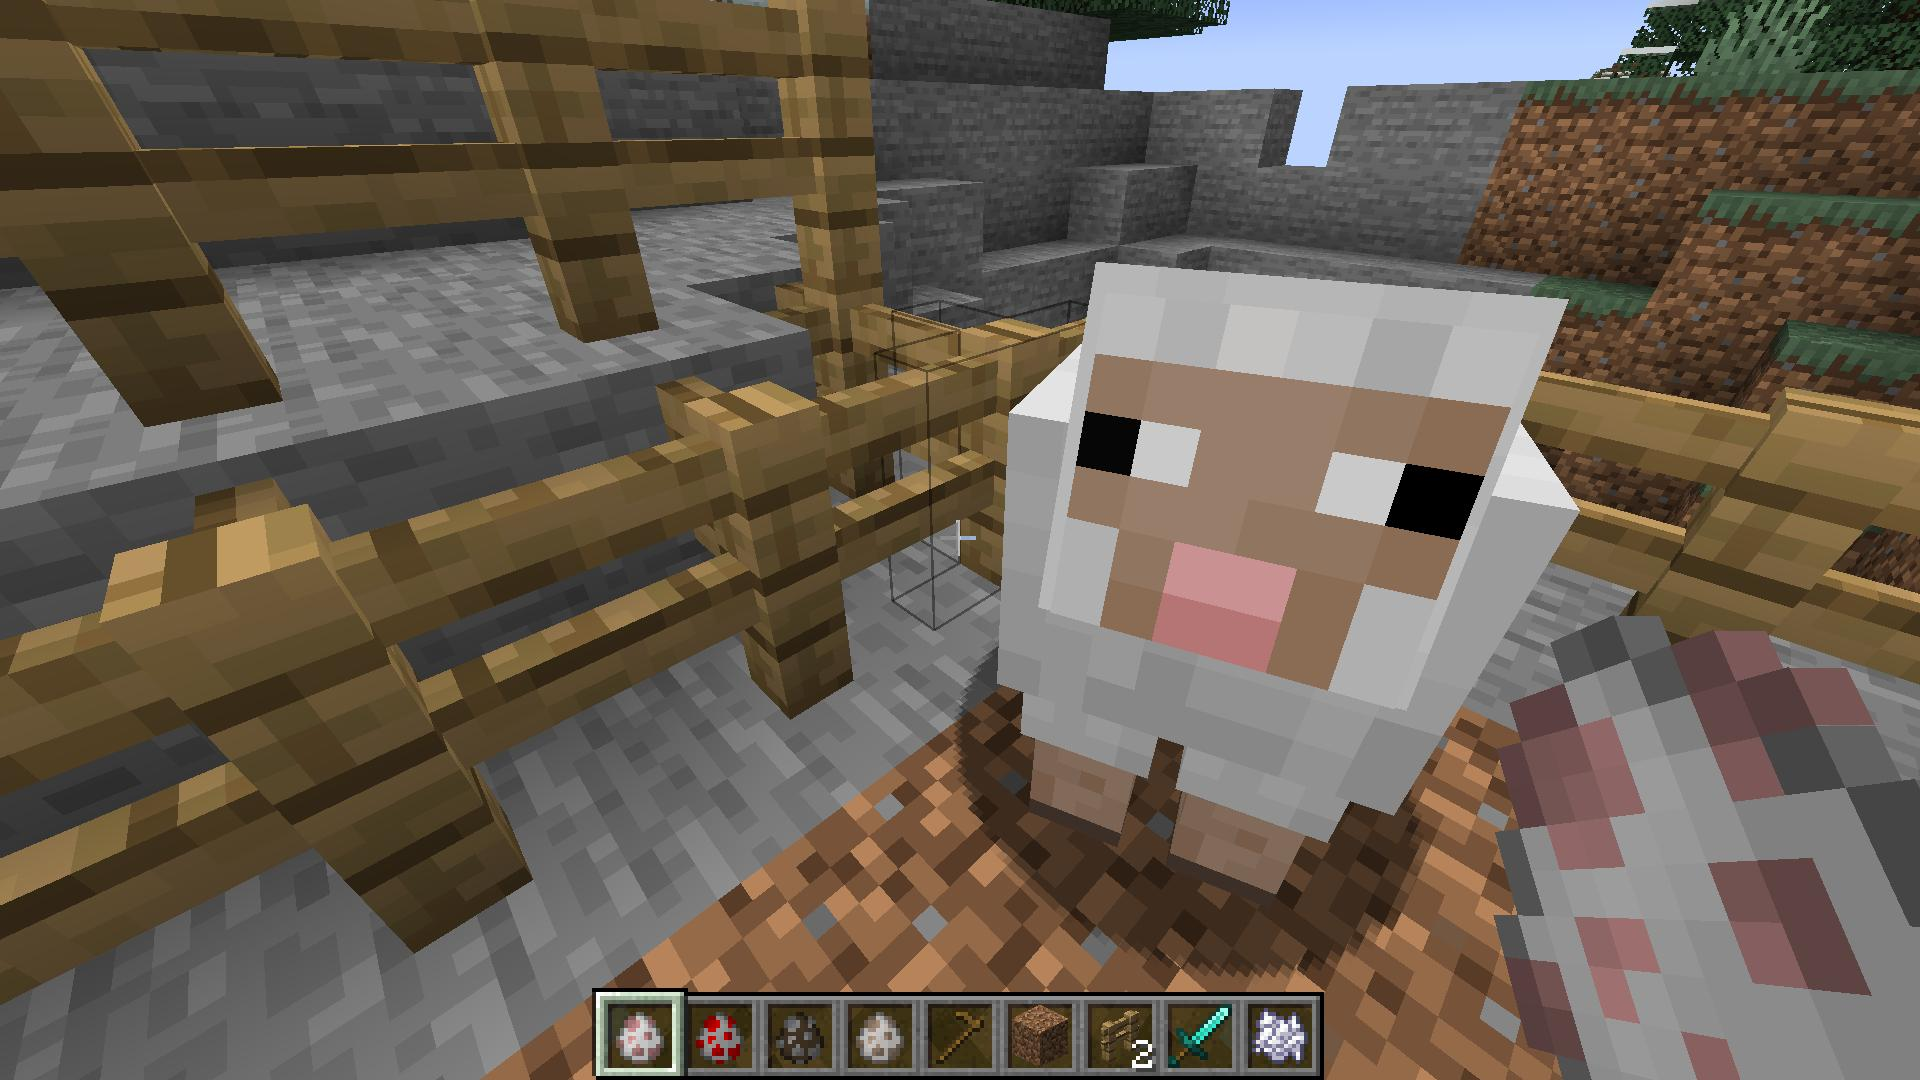sheep: (994, 255, 1586, 914)
